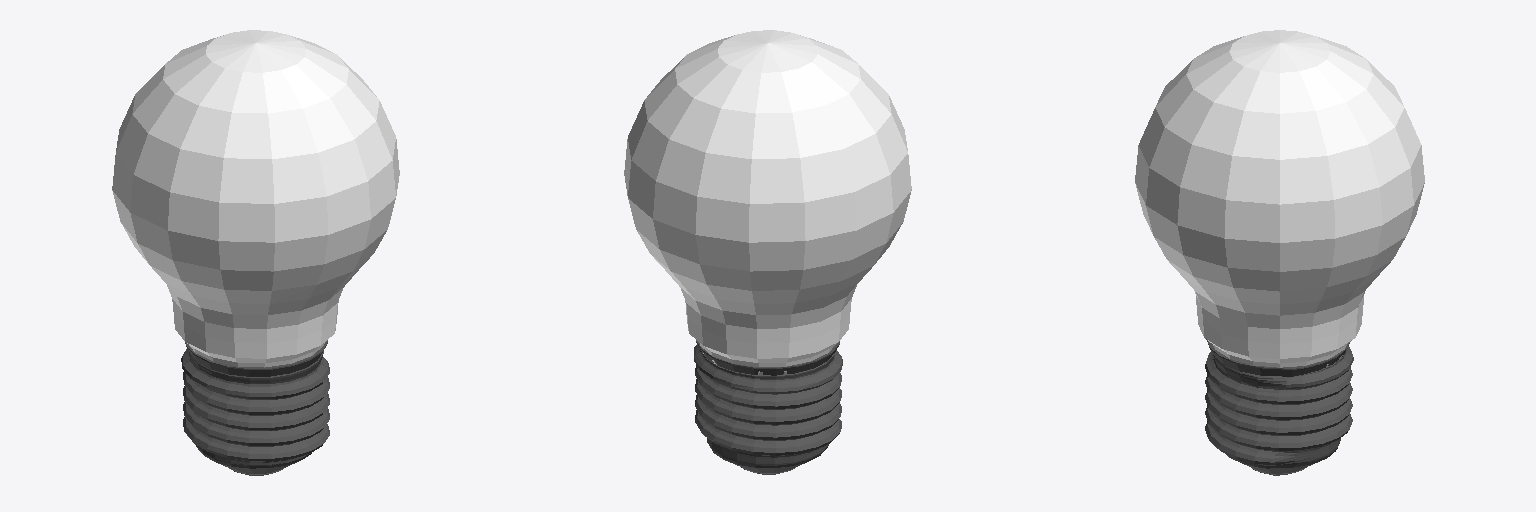
The picture shows the model from 3 angles: view 1: azimuth 30°, elevation 25°; view 2: azimuth 150°, elevation 25°; view 3: azimuth 270°, elevation 25°; orthographic projection.
Parts seen in each view (by area): view 1: unnamed_object1; view 2: unnamed_object1; view 3: unnamed_object1.
Boxes of the visible parts, <box> form: unnamed_object1: <box>112,30,399,475</box>; unnamed_object1: <box>624,30,911,474</box>; unnamed_object1: <box>1135,30,1424,475</box>.
Size of the model in its own units: 1.69 by 2.73 by 1.69.